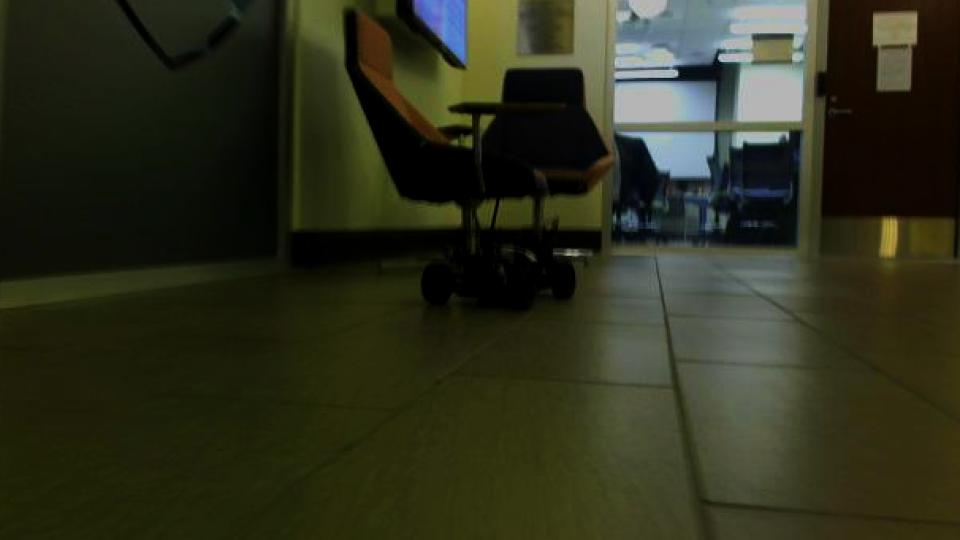car: (341, 7, 618, 312)
